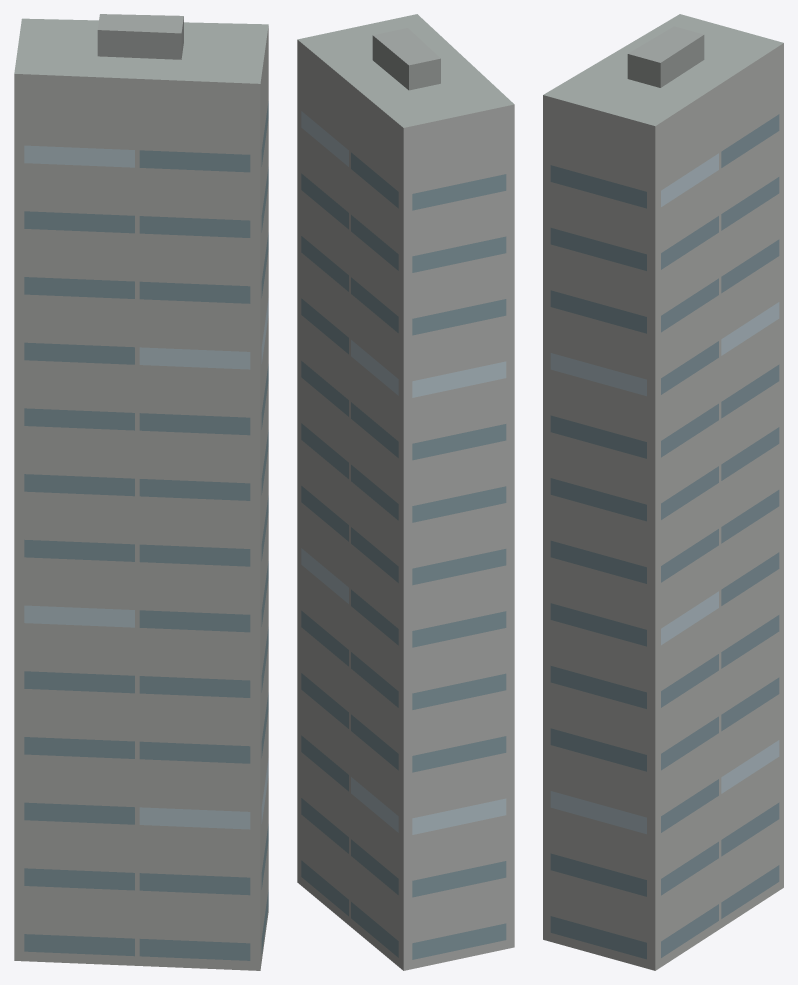
The model's file is fallback-jamsil-ricenz-205.glb.
The picture shows the model from 3 angles, left to right: view 1: azimuth 30°, elevation 25°; view 2: azimuth 150°, elevation 25°; view 3: azimuth 270°, elevation 25°; orthographic projection. The views are drawn at different scales.
Parts seen in each view (by area): view 1: fallback-jamsil-ricenz-205; view 2: fallback-jamsil-ricenz-205; view 3: fallback-jamsil-ricenz-205.
Boxes of the visible parts, x1,y1,x2,y2 form: fallback-jamsil-ricenz-205: (14,14,268,970); fallback-jamsil-ricenz-205: (297,14,514,970); fallback-jamsil-ricenz-205: (543,14,783,970).
Bounding box in the file's own units: 22.97 × 83 × 20.84.
